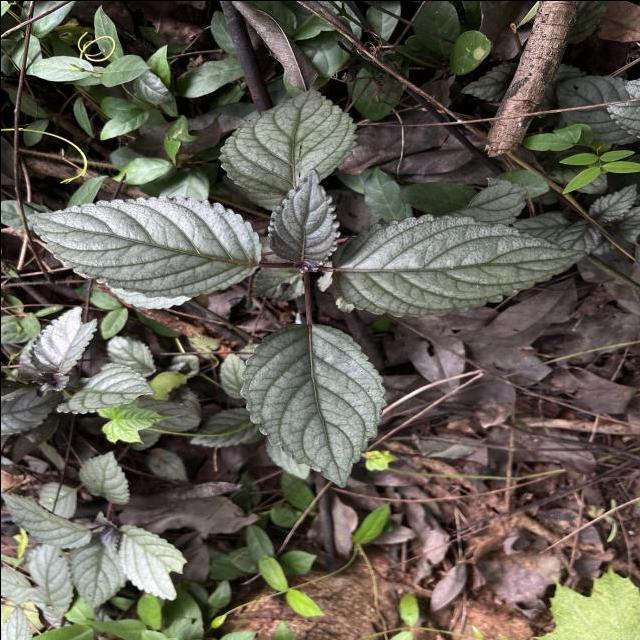Hemigraphis colorata: (326, 210, 592, 320), (235, 319, 388, 491), (26, 192, 264, 300), (214, 81, 361, 196), (264, 166, 341, 269), (0, 488, 95, 552), (52, 358, 158, 415), (74, 448, 131, 508)
